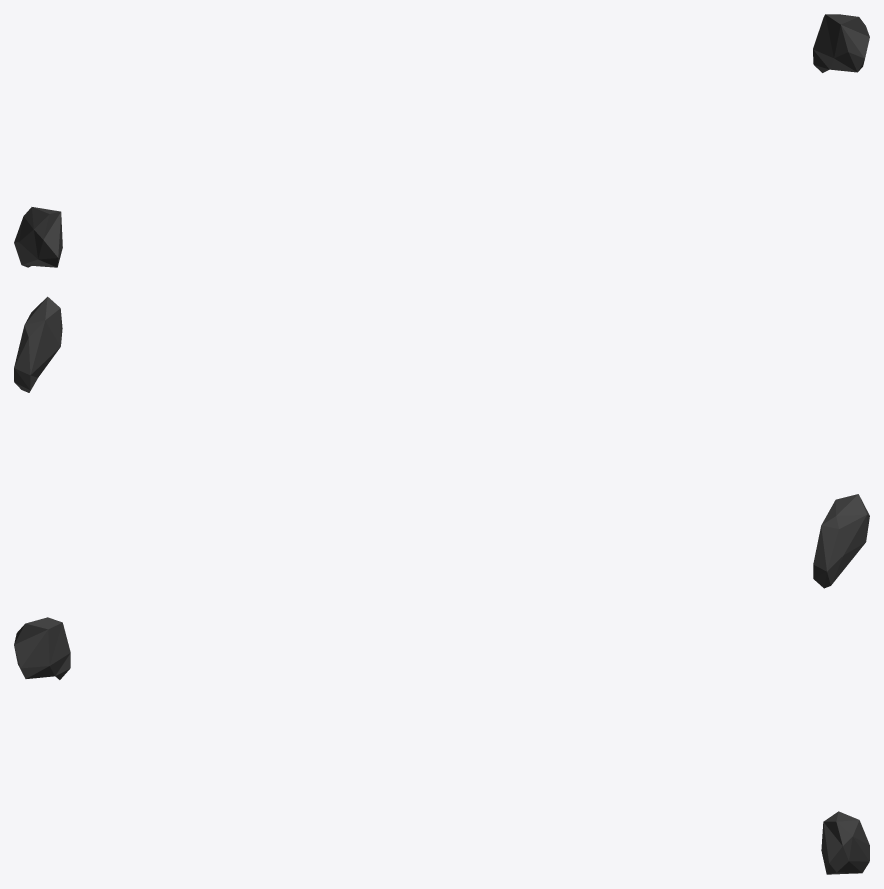
The model's file is Tarsal_first.glb.
The picture shows the model from 3 angles, top to bottom: view 1: azimuth 30°, elevation 25°; view 2: azimuth 150°, elevation 25°; view 3: azimuth 330°, elevation 25°; orthographic projection.
Visible parts, largest first — view 1: Tarsal_first; view 2: Tarsal_first; view 3: Tarsal_first.
Boxes of the visible parts, x1,y1,x2,y2 form: Tarsal_first: (14,14,869,267); Tarsal_first: (14,296,869,588); Tarsal_first: (14,617,869,874).
Size of the model in its own units: 0.00408 by 0.000353 by 0.000341.
1 material, 1 textured.
